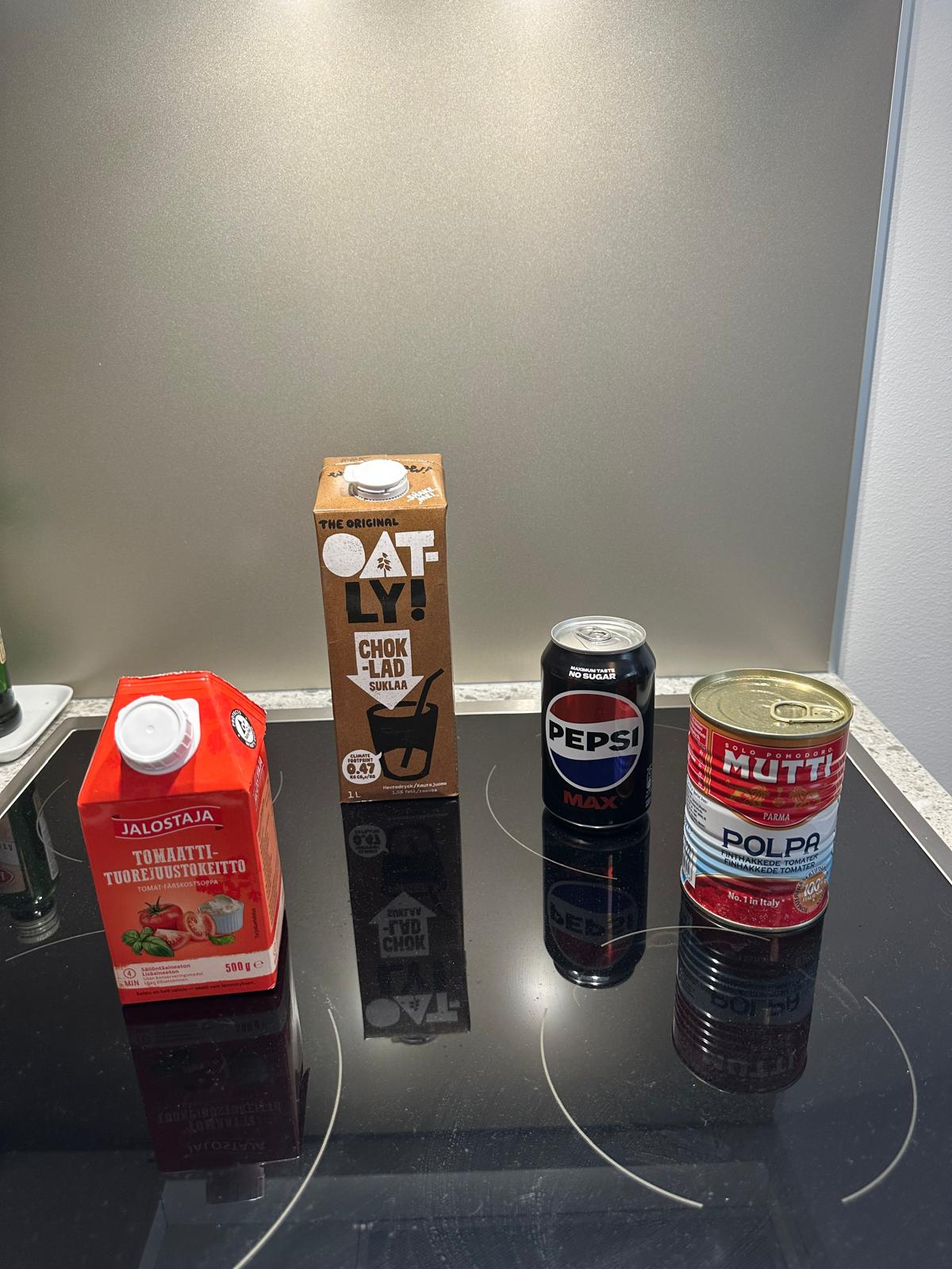Dryckeskartong: (77, 668, 285, 1006), (312, 453, 460, 804)
Konservburk: (679, 667, 854, 934)
Pantburk: (540, 616, 657, 829)
